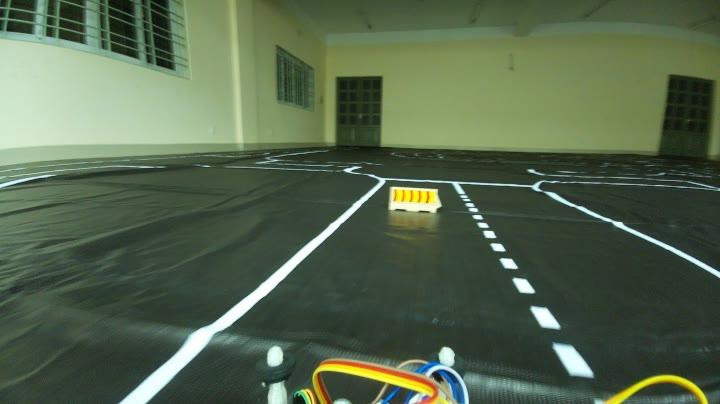roadblock: (383, 184, 441, 217)
